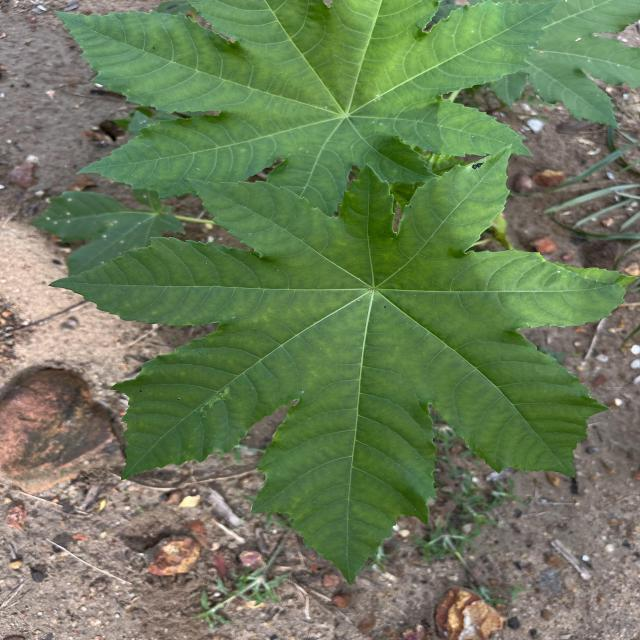Ricinus communis linn: (43, 136, 634, 591)
